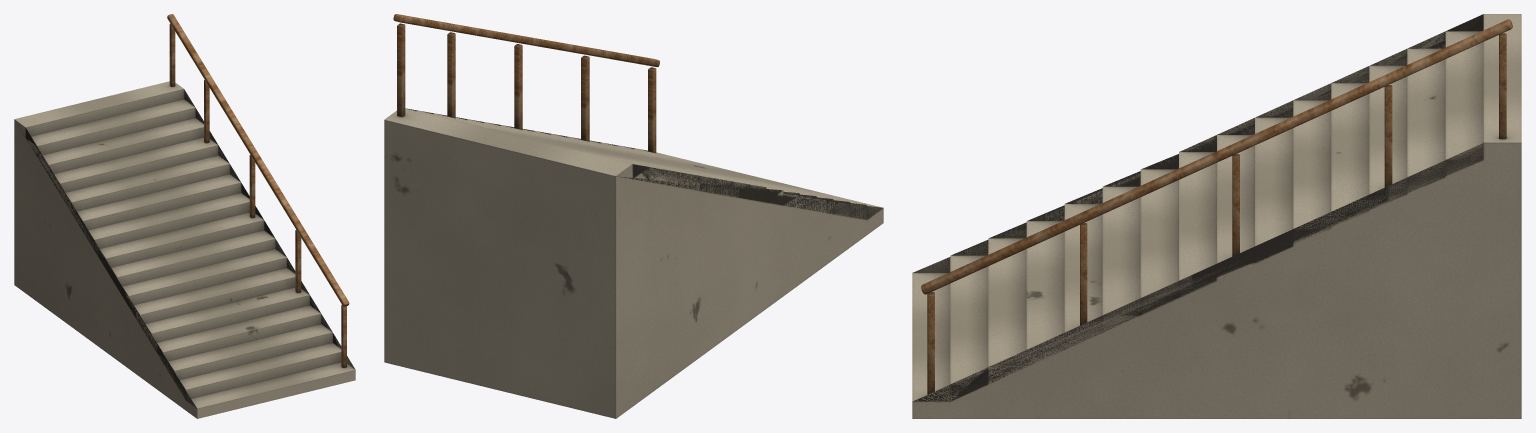
File: stair_flight.fbx
3 views of the same model, side by side, from view 1: azimuth 30°, elevation 25°; view 2: azimuth 150°, elevation 25°; view 3: azimuth 270°, elevation 25° (orthographic). The views are drawn at different scales.
Visible parts, largest first — view 1: Body; view 2: Body; view 3: Body.
Boxes of the visible parts, x1,y1,x2,y2 form: Body: (14,14,355,418); Body: (384,14,883,418); Body: (912,14,1521,418).
Size of the model in its own units: 8 by 11.39 by 16.
Materials: 1 (1 with a texture image).
